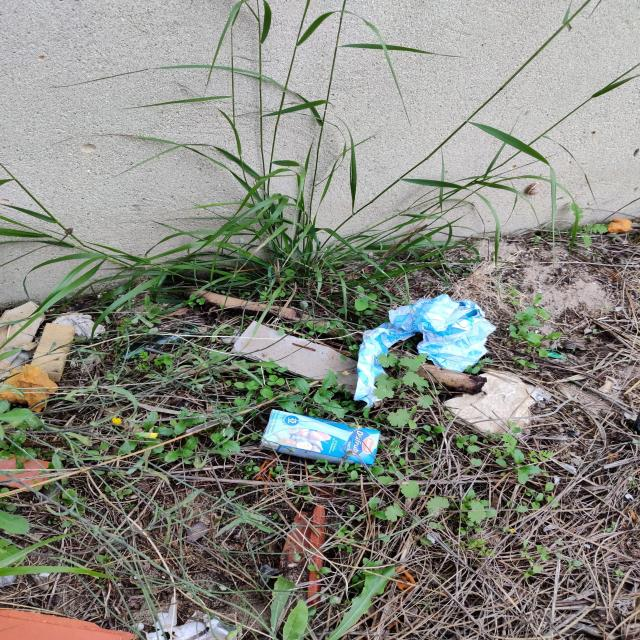litter: (353, 294, 495, 408), (258, 409, 381, 468), (1, 365, 57, 412)
